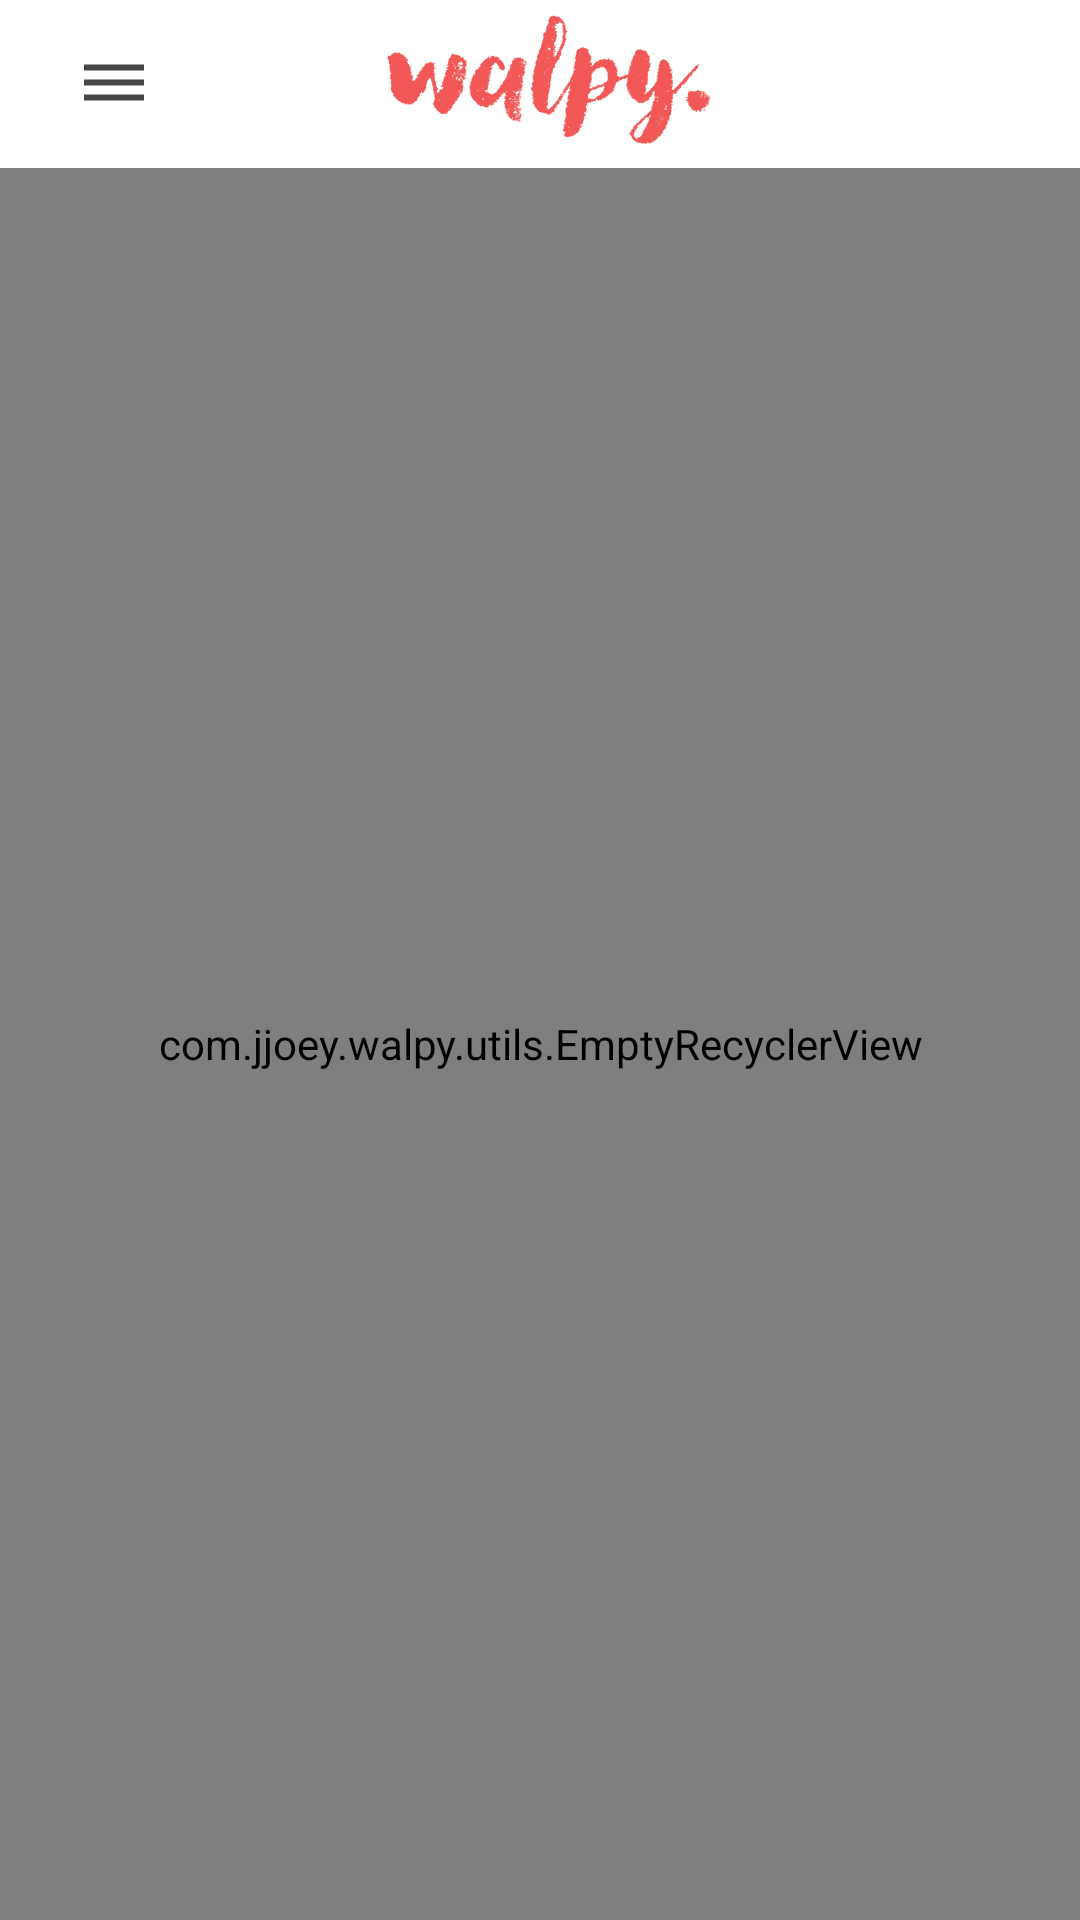

Icon bounding boxes for this 1080x1920 phone screenshot, format (x1, y1, x2, y2):
nav: (84, 64, 144, 101)
